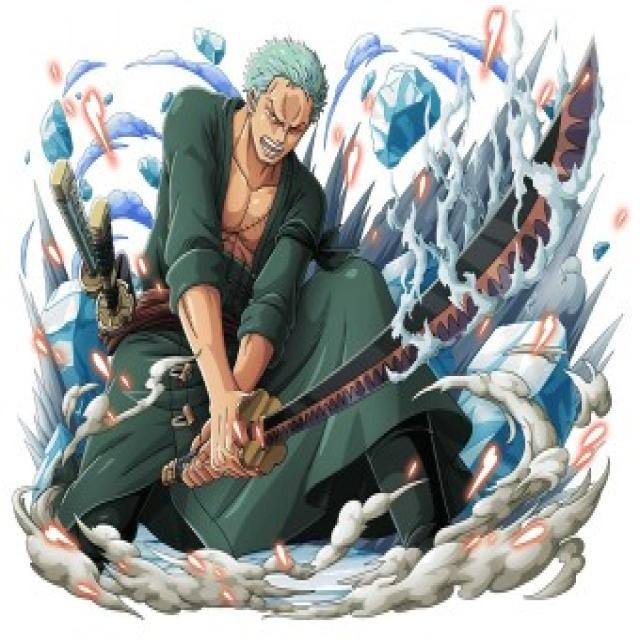Zoro: (228, 29, 340, 179)
